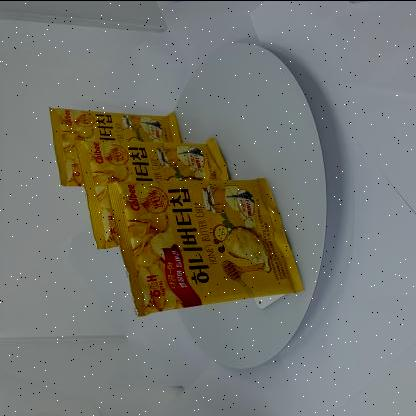Others: (44, 95, 308, 323)
